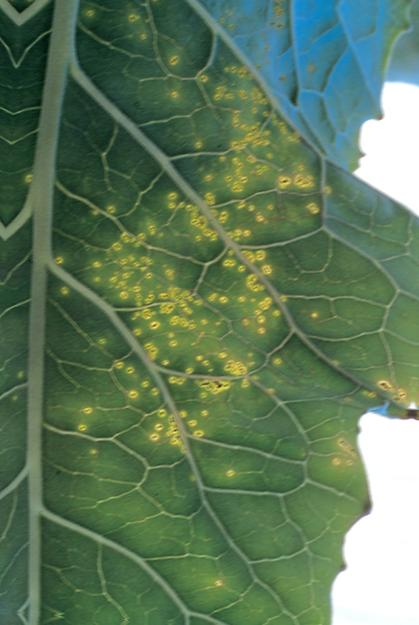Tomato leaf bacterial spot: (0, 9, 417, 621)
